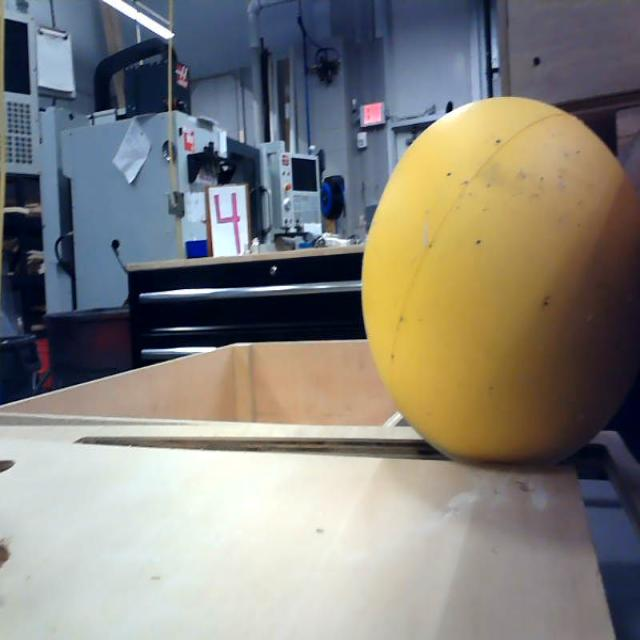Fuel: (361, 96, 640, 467)
